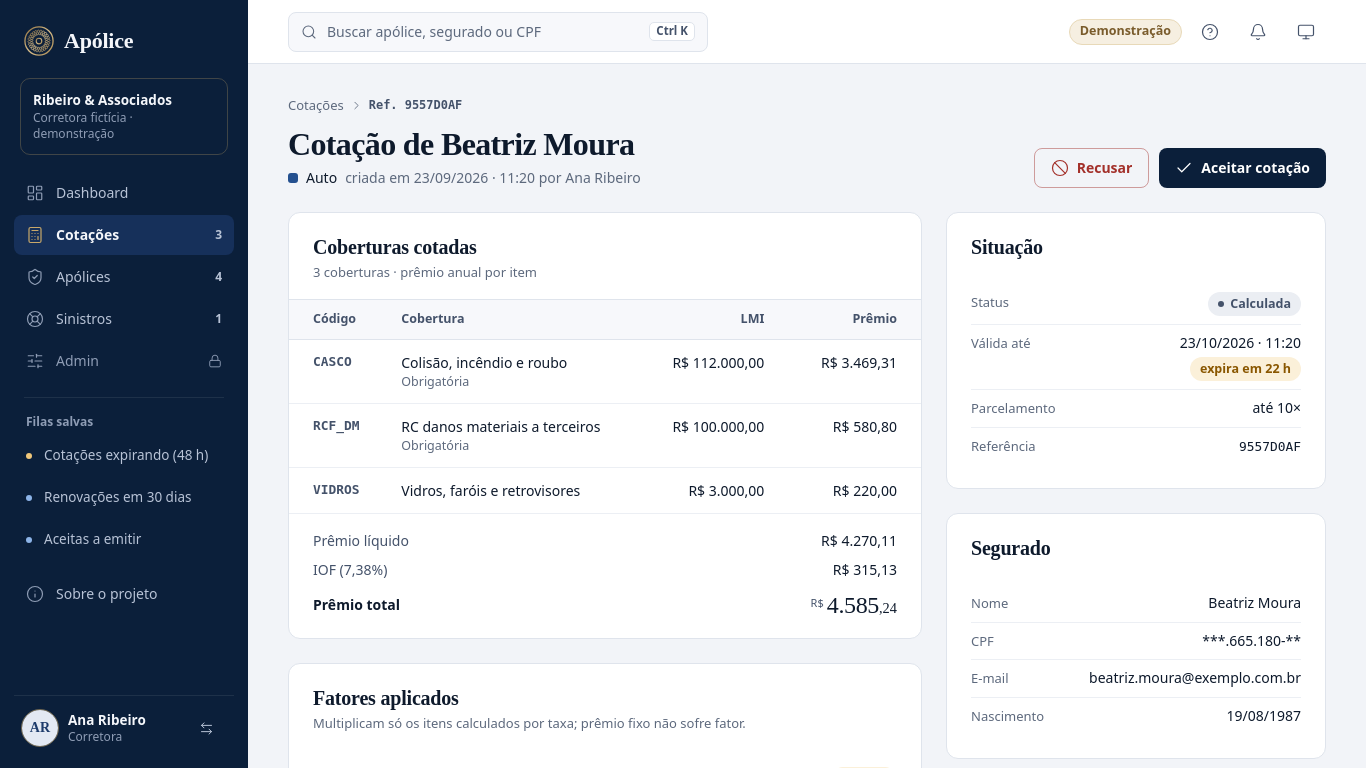
it: Detalhe da cotação › deve aceitar a cotação com confirmação e liberar a emissão
The image size is (1366, 768).
Click the button "Aceitar cotação". click: (1243, 168)
box: [1159,148,1326,188]
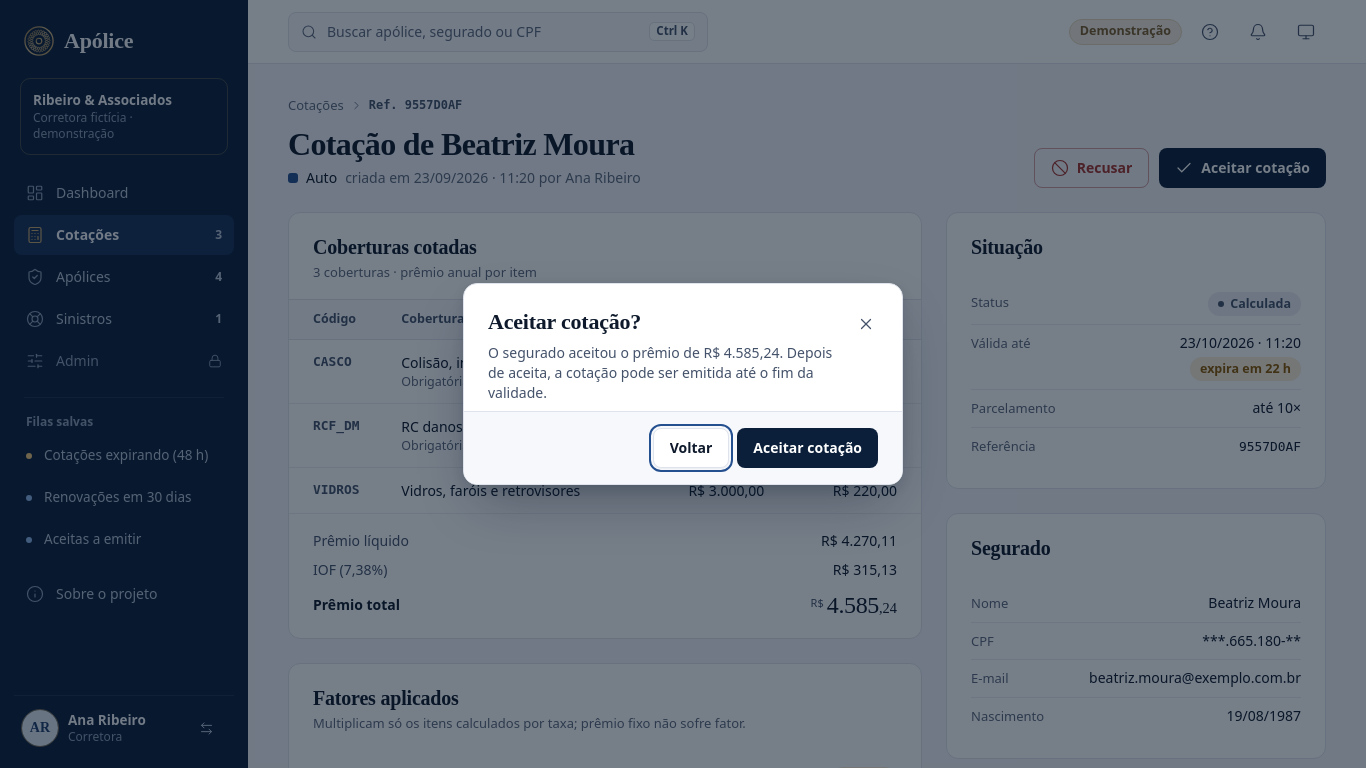
Click the button "Aceitar cotação". click: (808, 448)
box: [737,428,878,468]
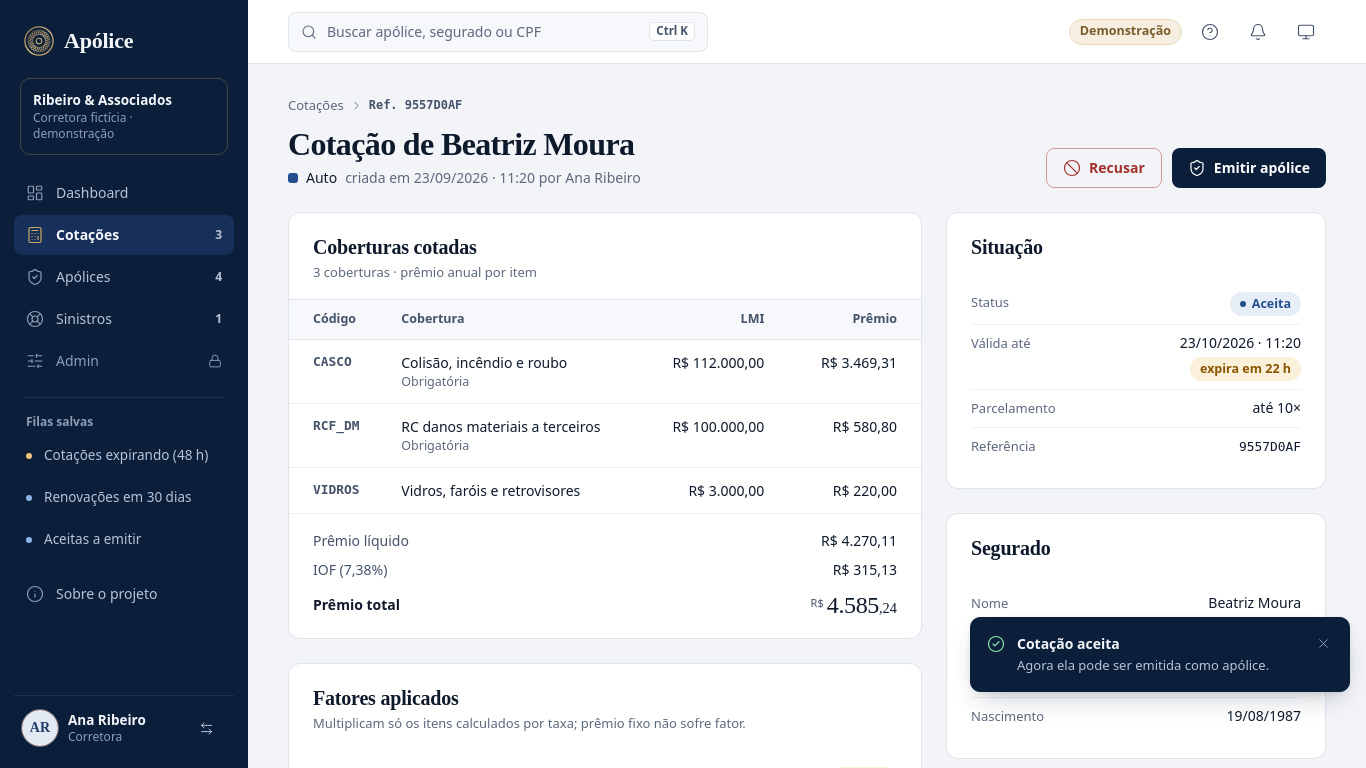
Check: the text "Cotação aceita" is shown, box [1017,634,1120,652]
Check: the button "Emitir apólice" is shown, box [1172,148,1326,188]
